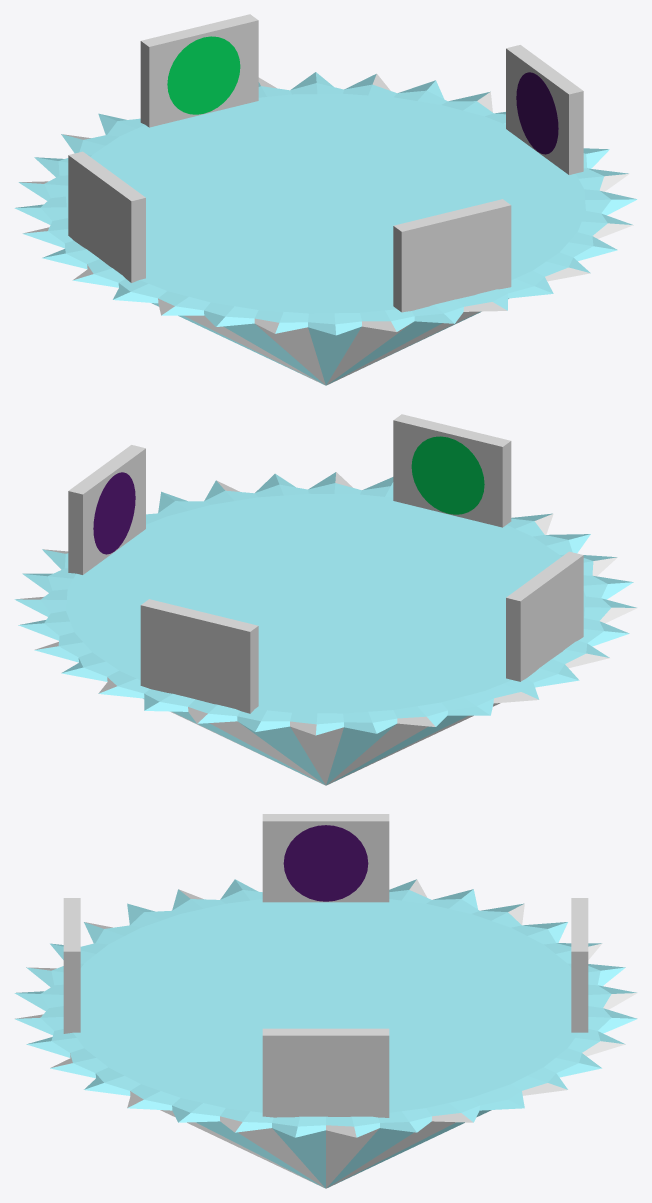
File: Alein Station.fbx
3 renders of one model, top to bottom at view 1: azimuth 30°, elevation 25°; view 2: azimuth 150°, elevation 25°; view 3: azimuth 270°, elevation 25°, orthographic.
Visible parts, largest first — view 1: Cone, Cube.001, Cube, Cube.002, Cube.003, Cylinder, Cylinder.001; view 2: Cone, Cube.002, Cube, Cube.001, Cube.003, Cylinder.002, Cylinder.001; view 3: Cone, Cube.003, Cube, Cylinder.004, Cube.001, Cube.002.
Part boxes in pixels (<box>): Cone: <box>14,72,637,385</box>; Cube.001: <box>393,199,511,312</box>; Cube: <box>68,151,145,282</box>; Cube.002: <box>140,14,258,127</box>; Cube.003: <box>506,45,583,174</box>; Cylinder: <box>167,36,240,114</box>; Cylinder.001: <box>516,72,558,154</box>; Cone: <box>14,472,637,785</box>; Cube.002: <box>140,599,258,713</box>; Cube: <box>506,551,583,681</box>; Cube.001: <box>393,414,511,527</box>; Cube.003: <box>68,445,145,574</box>; Cylinder.002: <box>411,436,484,514</box>; Cylinder.001: <box>93,472,135,554</box>; Cone: <box>14,879,637,1188</box>; Cube.003: <box>262,1028,389,1117</box>; Cube: <box>262,814,389,902</box>; Cylinder.004: <box>283,825,368,901</box>; Cube.001: <box>63,898,80,1033</box>; Cube.002: <box>571,898,588,1032</box>.
Size of the model in its own units: 1476 by 689 by 1476.
